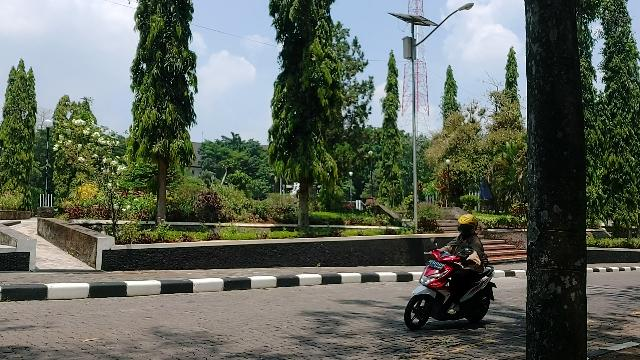helm: (459, 216, 479, 235)
motor: (405, 253, 498, 332)
